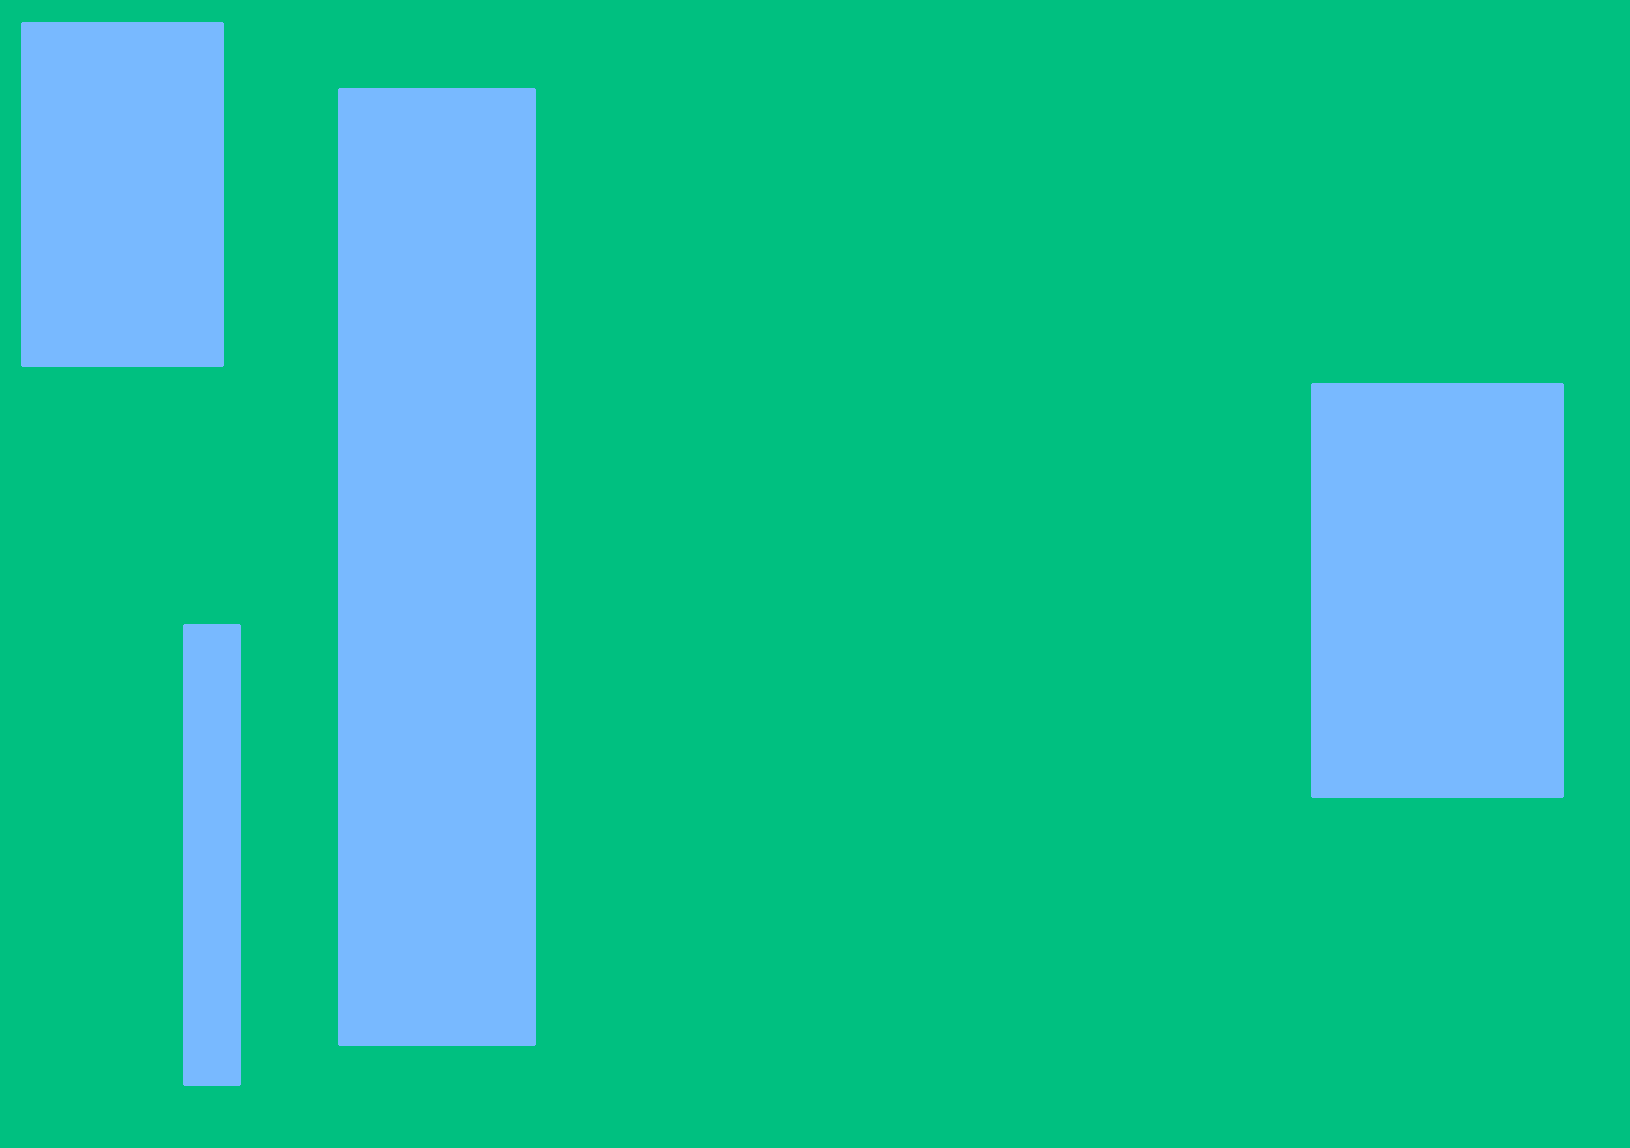Text_area: (339, 89, 534, 1044), (1312, 384, 1562, 796), (22, 24, 222, 365), (184, 625, 239, 1083)
